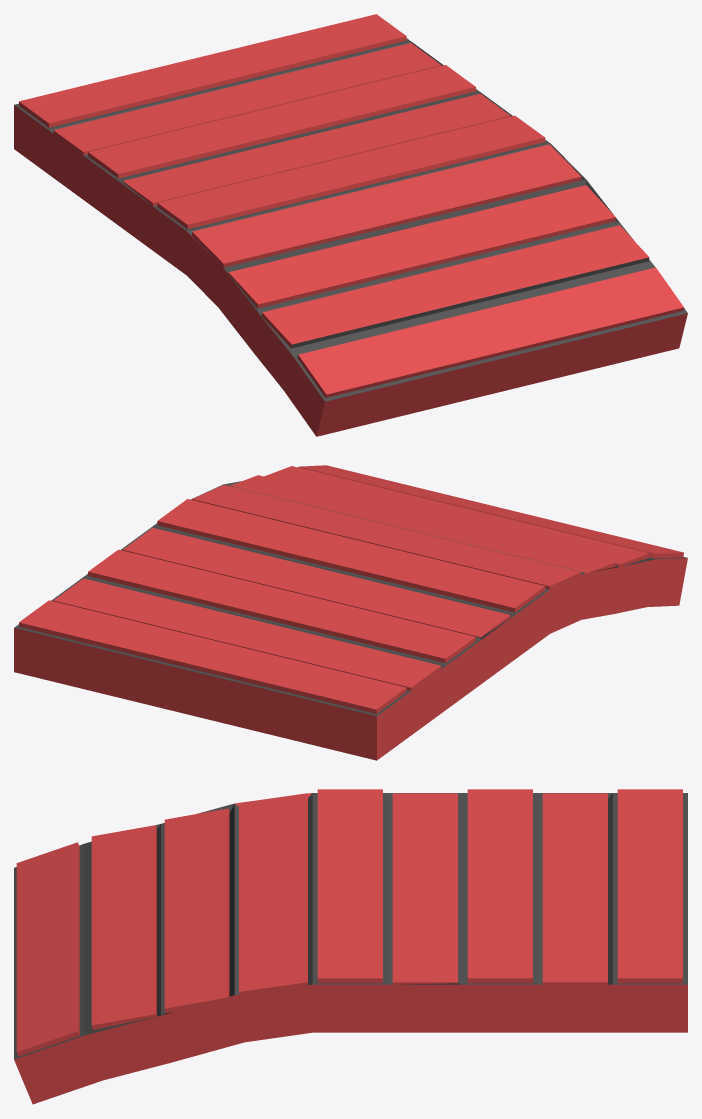
The model's file is bridge.fbx.
3 renders of one model, top to bottom at view 1: azimuth 30°, elevation 25°; view 2: azimuth 150°, elevation 25°; view 3: azimuth 270°, elevation 25°, orthographic. The views are drawn at different scales.
Visible parts, largest first — view 1: Cube.001; view 2: Cube.001; view 3: Cube.001.
Part boxes in pixels (x1,y1,x2,y2): Cube.001: (14, 14, 687, 436); Cube.001: (14, 465, 687, 760); Cube.001: (14, 789, 687, 1104).
Size of the model in its own units: 200 by 60.63 by 297.
